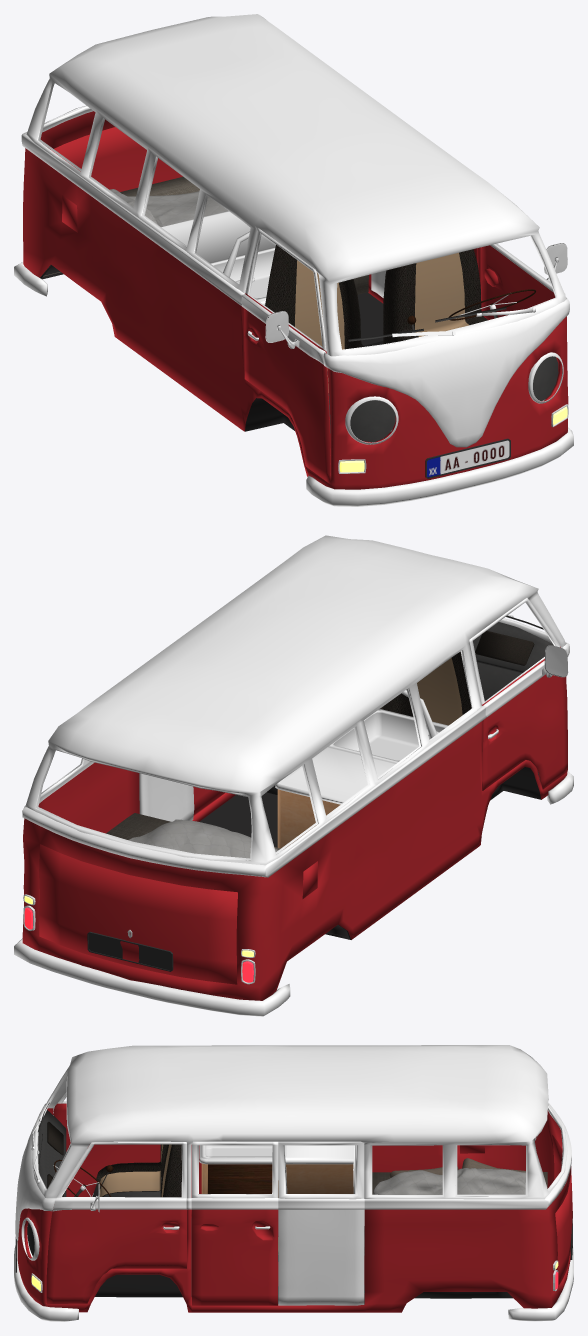
3 renders of one model, top to bottom at view 1: azimuth 30°, elevation 25°; view 2: azimuth 150°, elevation 25°; view 3: azimuth 270°, elevation 25°, orthographic. The views are drawn at different scales.
Parts seen in each view (by area): view 1: Plane.002_12, Plane_16, Chairs_7, Plane.003_19, Interior_8, Plane.005_45, Edge.001_17, Panel_9, Plane.006_46, Cube.006_39, Windows_5, Cube.002_24 (+4 smaller); view 2: Plane.002_12, Plane.005_45, Interior_8, Plane.003_19, Edge.001_17, Plane_16, Chairs_7, Plane.006_46, Windows_5, Door1_4, Plane.004_23, Cube.013_51 (+6 smaller); view 3: Plane.002_12, Plane.003_19, Door1_4, Plane.001_18, Interior_8, Plane_16, Plane.006_46, Chairs_7, Edge.001_17, Windows_5, Interior.001_44, DoorFrontEdge_13 (+6 smaller).
Boxes of the visible parts, <box> form: Plane.002_12: <box>23,14,567,489</box>; Plane_16: <box>14,262,573,506</box>; Chairs_7: <box>265,244,487,392</box>; Plane.003_19: <box>244,228,568,484</box>; Interior_8: <box>43,176,383,433</box>; Plane.005_45: <box>51,127,182,191</box>; Edge.001_17: <box>21,131,244,305</box>; Panel_9: <box>350,356,558,442</box>; Plane.006_46: <box>110,189,227,227</box>; Cube.006_39: <box>425,438,510,478</box>; Windows_5: <box>38,82,556,350</box>; Cube.002_24: <box>265,243,567,348</box>; Plane.002_12: <box>22,535,567,1000</box>; Plane.005_45: <box>39,844,237,984</box>; Interior_8: <box>106,690,448,849</box>; Plane.003_19: <box>469,598,567,790</box>; Edge.001_17: <box>22,706,486,877</box>; Plane_16: <box>14,642,573,1016</box>; Chairs_7: <box>380,651,471,725</box>; Plane.006_46: <box>128,819,278,860</box>; Windows_5: <box>35,602,555,860</box>; Door1_4: <box>139,773,194,821</box>; Plane.004_23: <box>199,772,539,937</box>; Cube.013_51: <box>87,931,173,971</box>; Plane.002_12: <box>17,1045,571,1312</box>; Plane.003_19: <box>46,1092,186,1303</box>; Door1_4: <box>278,1141,364,1305</box>; Plane.001_18: <box>192,1141,278,1305</box>; Interior_8: <box>92,1145,547,1254</box>; Plane_16: <box>14,1103,573,1321</box>; Plane.006_46: <box>364,1168,525,1255</box>; Chairs_7: <box>96,1144,181,1197</box>; Edge.001_17: <box>364,1103,571,1209</box>; Windows_5: <box>37,1071,566,1197</box>; Interior.001_44: <box>208,1164,272,1193</box>; DoorFrontEdge_13: <box>53,1101,186,1211</box>.
Bounding box in the file's own units: 4.89 × 3.78 × 9.55.
23 materials, 9 textured.
